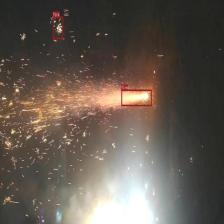fire: (121, 89, 152, 106), (52, 16, 63, 39)
